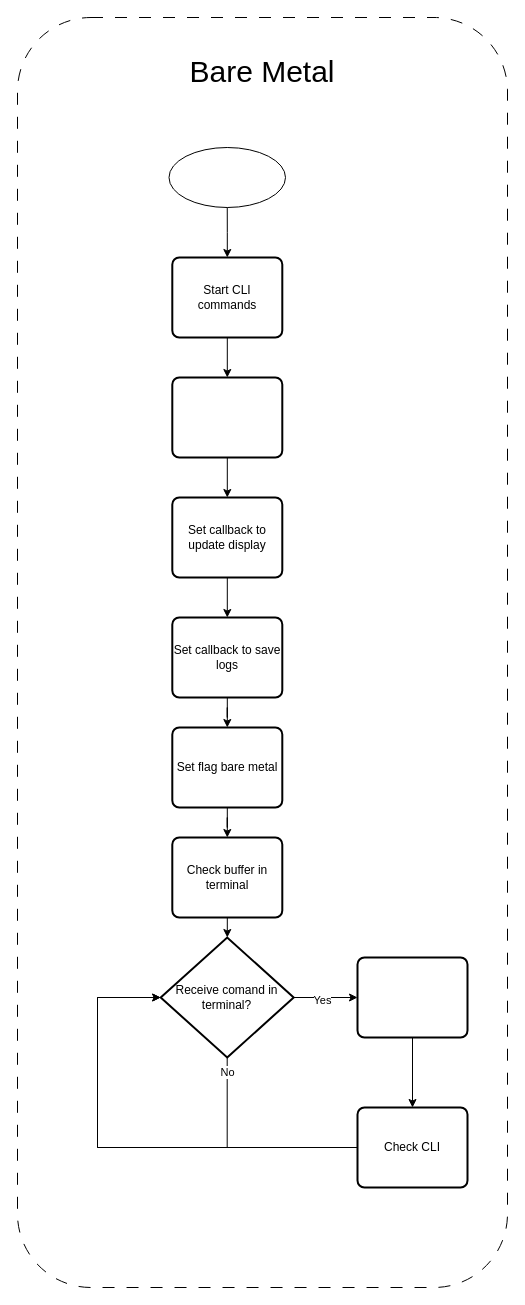
Image size: 525x1305. Some labels were removed from this diagram. Each missing label, with the centre of its shape:
"Set stream of input commands" goes at point (227, 417).
"Start" goes at point (227, 177).
"Update stream" goes at point (412, 997).
